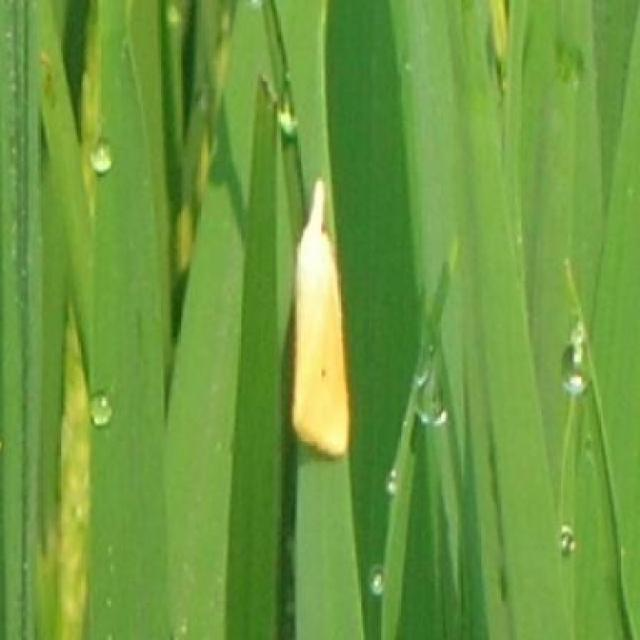stem-borer: (288, 175, 352, 459)
